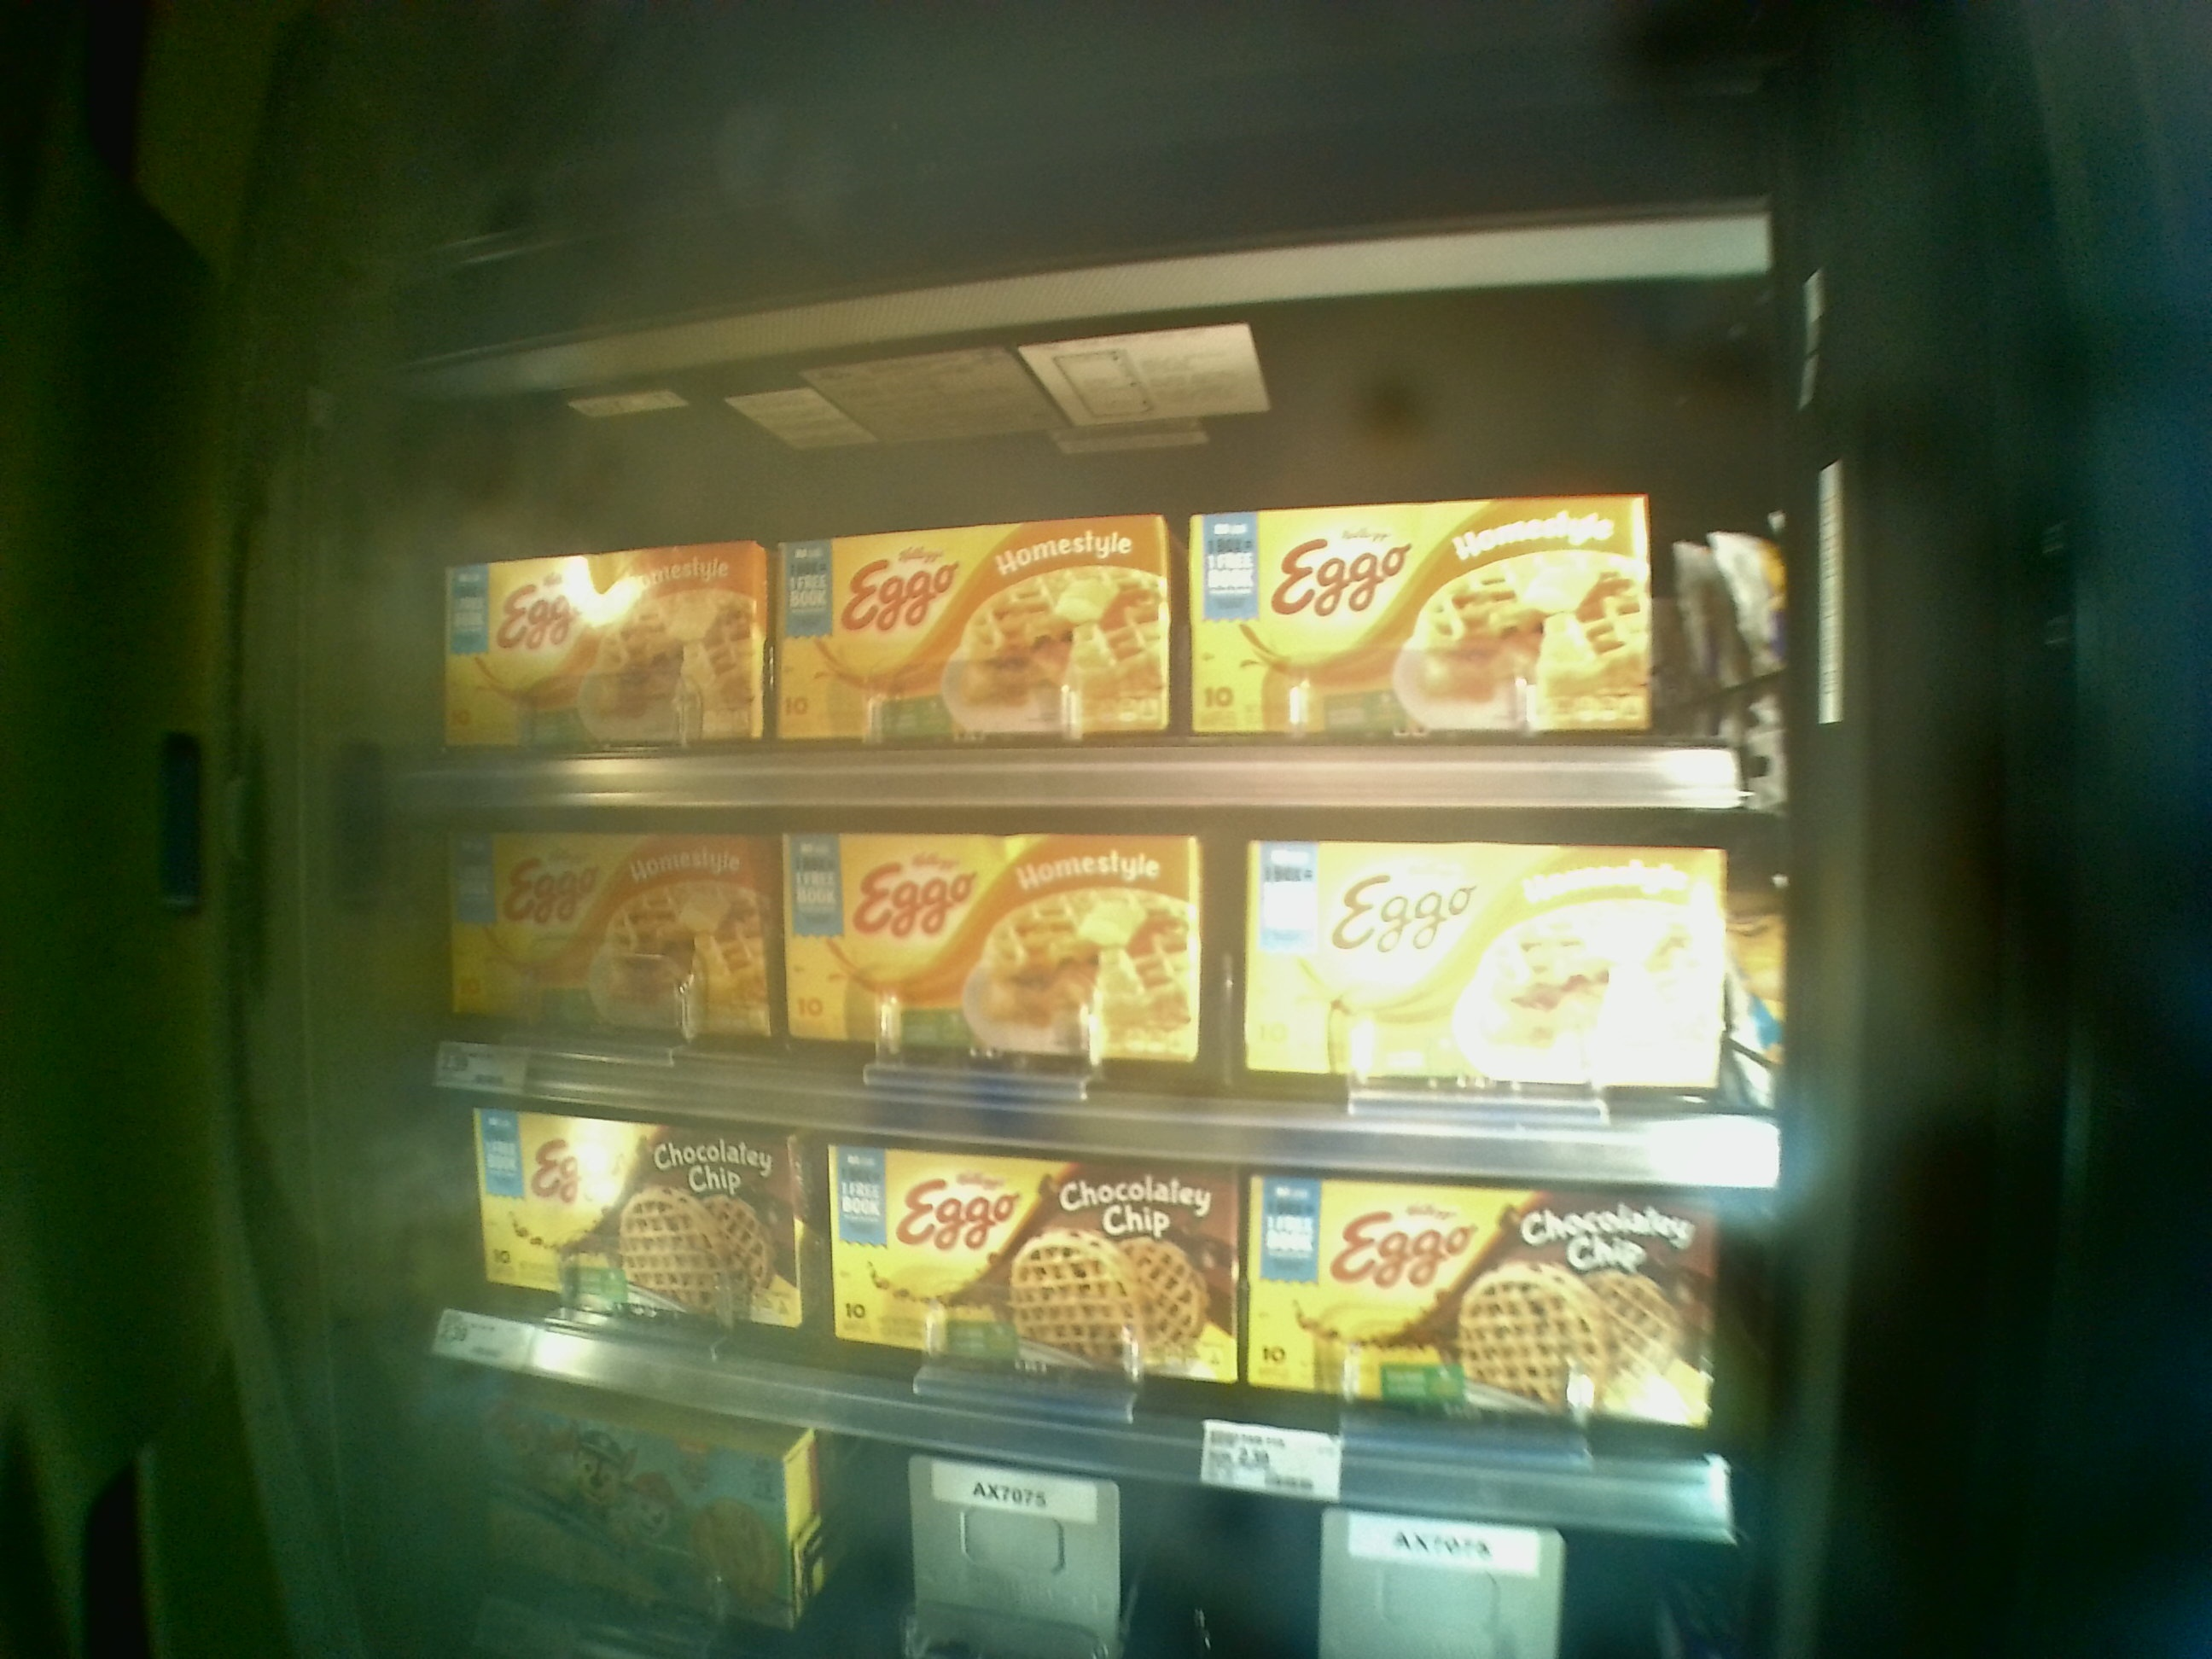shelf: (434, 788, 1806, 1185)
